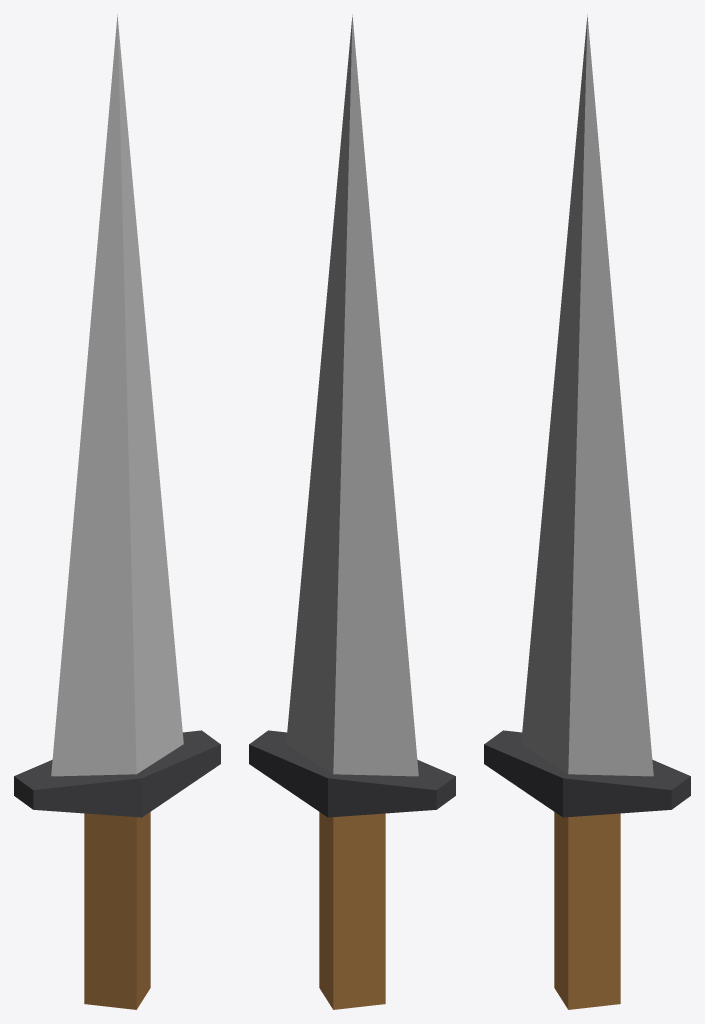
The model's file is sword.fbx.
3 renders of one model, left to right at view 1: azimuth 30°, elevation 25°; view 2: azimuth 150°, elevation 25°; view 3: azimuth 330°, elevation 25°, orthographic.
Parts seen in each view (by area): view 1: sword; view 2: sword; view 3: sword.
Part boxes in pixels (box(x1,y1,x2,y2)): sword: box(14, 14, 220, 1009); sword: box(249, 14, 455, 1009); sword: box(484, 14, 690, 1009).
Size of the model in its own units: 25 by 125 by 11.34.
